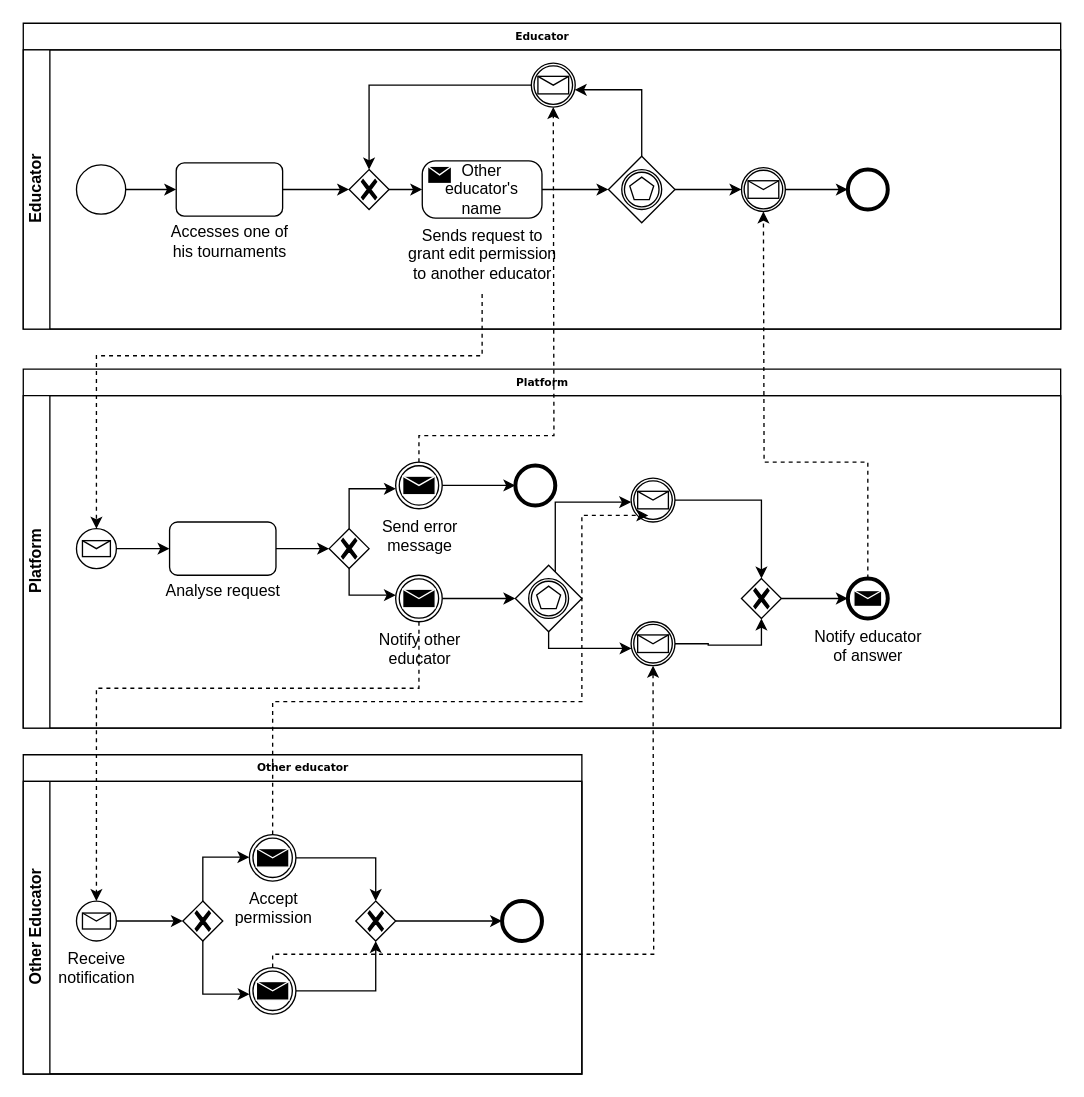
The diagram is 1084 pixels wide and 1097 high, and some of its shapes have lost their labels. Here are the shapes that lost their labels. From the top down, the centre of each, then its label:
At pixel 552 84: "Receive error message".
At pixel 762 188: "Receive answer".
At pixel 652 499: "Receive positive response".
At pixel 95 548: "Receive request".
At pixel 652 643: "Receive negative response".
At pixel 272 990: "Refuse permission".
